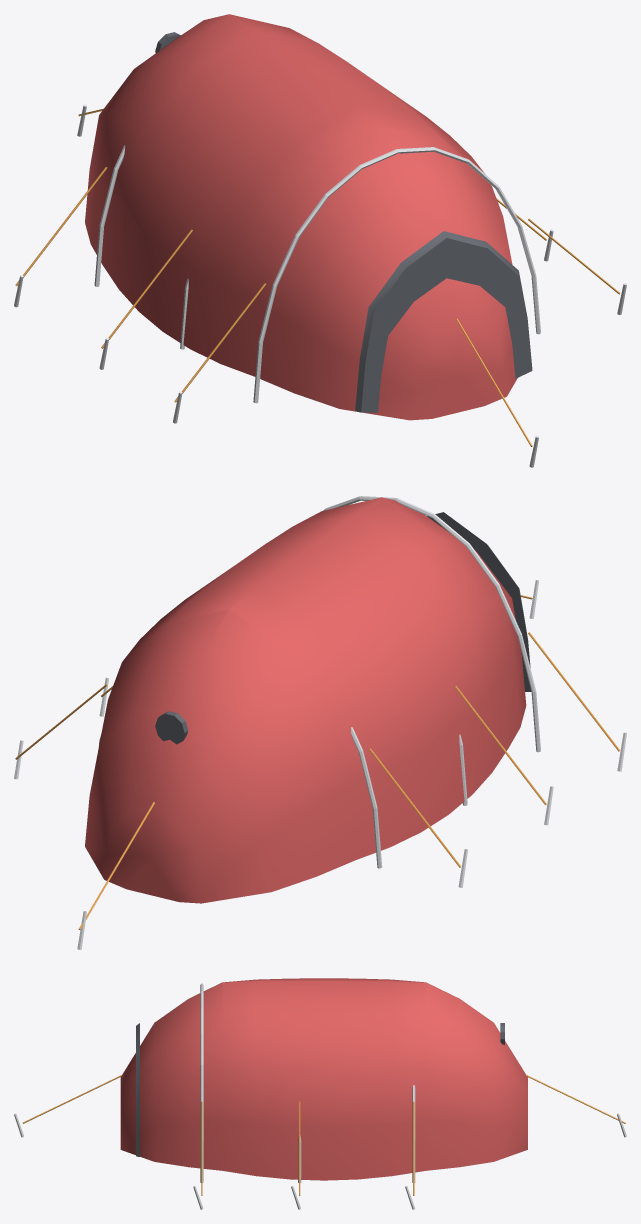
File: mountaineering-and-summit-expedition-high-altitude-biv-c5c1c3b5__18797.glb
3 renders of one model, top to bottom at view 1: azimuth 30°, elevation 25°; view 2: azimuth 150°, elevation 25°; view 3: azimuth 270°, elevation 25°, orthographic. The views are drawn at different scales.
Visible parts, largest first — view 1: high-altitude-bivouac-tent; view 2: high-altitude-bivouac-tent; view 3: high-altitude-bivouac-tent.
Boxes of the visible parts, bbox=[...] form: high-altitude-bivouac-tent: bbox=[14, 14, 626, 467]; high-altitude-bivouac-tent: bbox=[14, 496, 626, 949]; high-altitude-bivouac-tent: bbox=[14, 978, 626, 1209].
Bounding box in the file's own units: 2.12 × 1.05 × 3.76.
